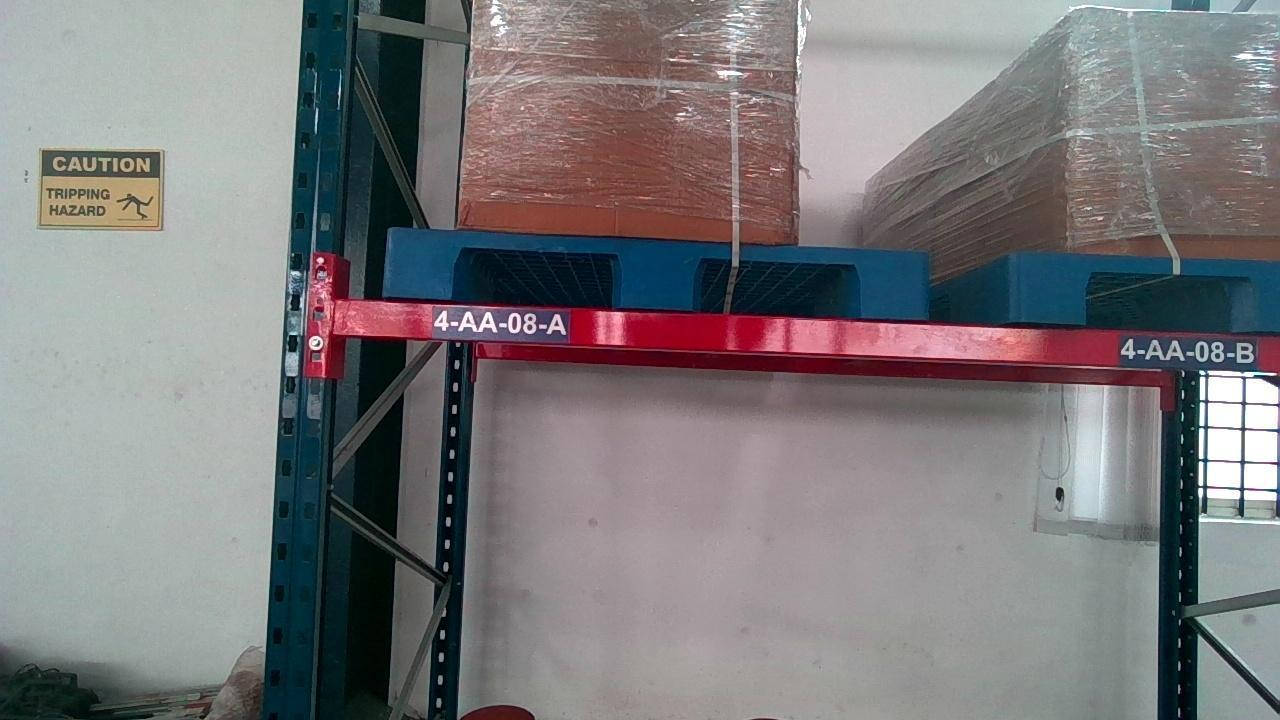h_rack: (337, 297, 1276, 369)
small_pallet: (385, 235, 930, 308), (1018, 254, 1280, 327)
